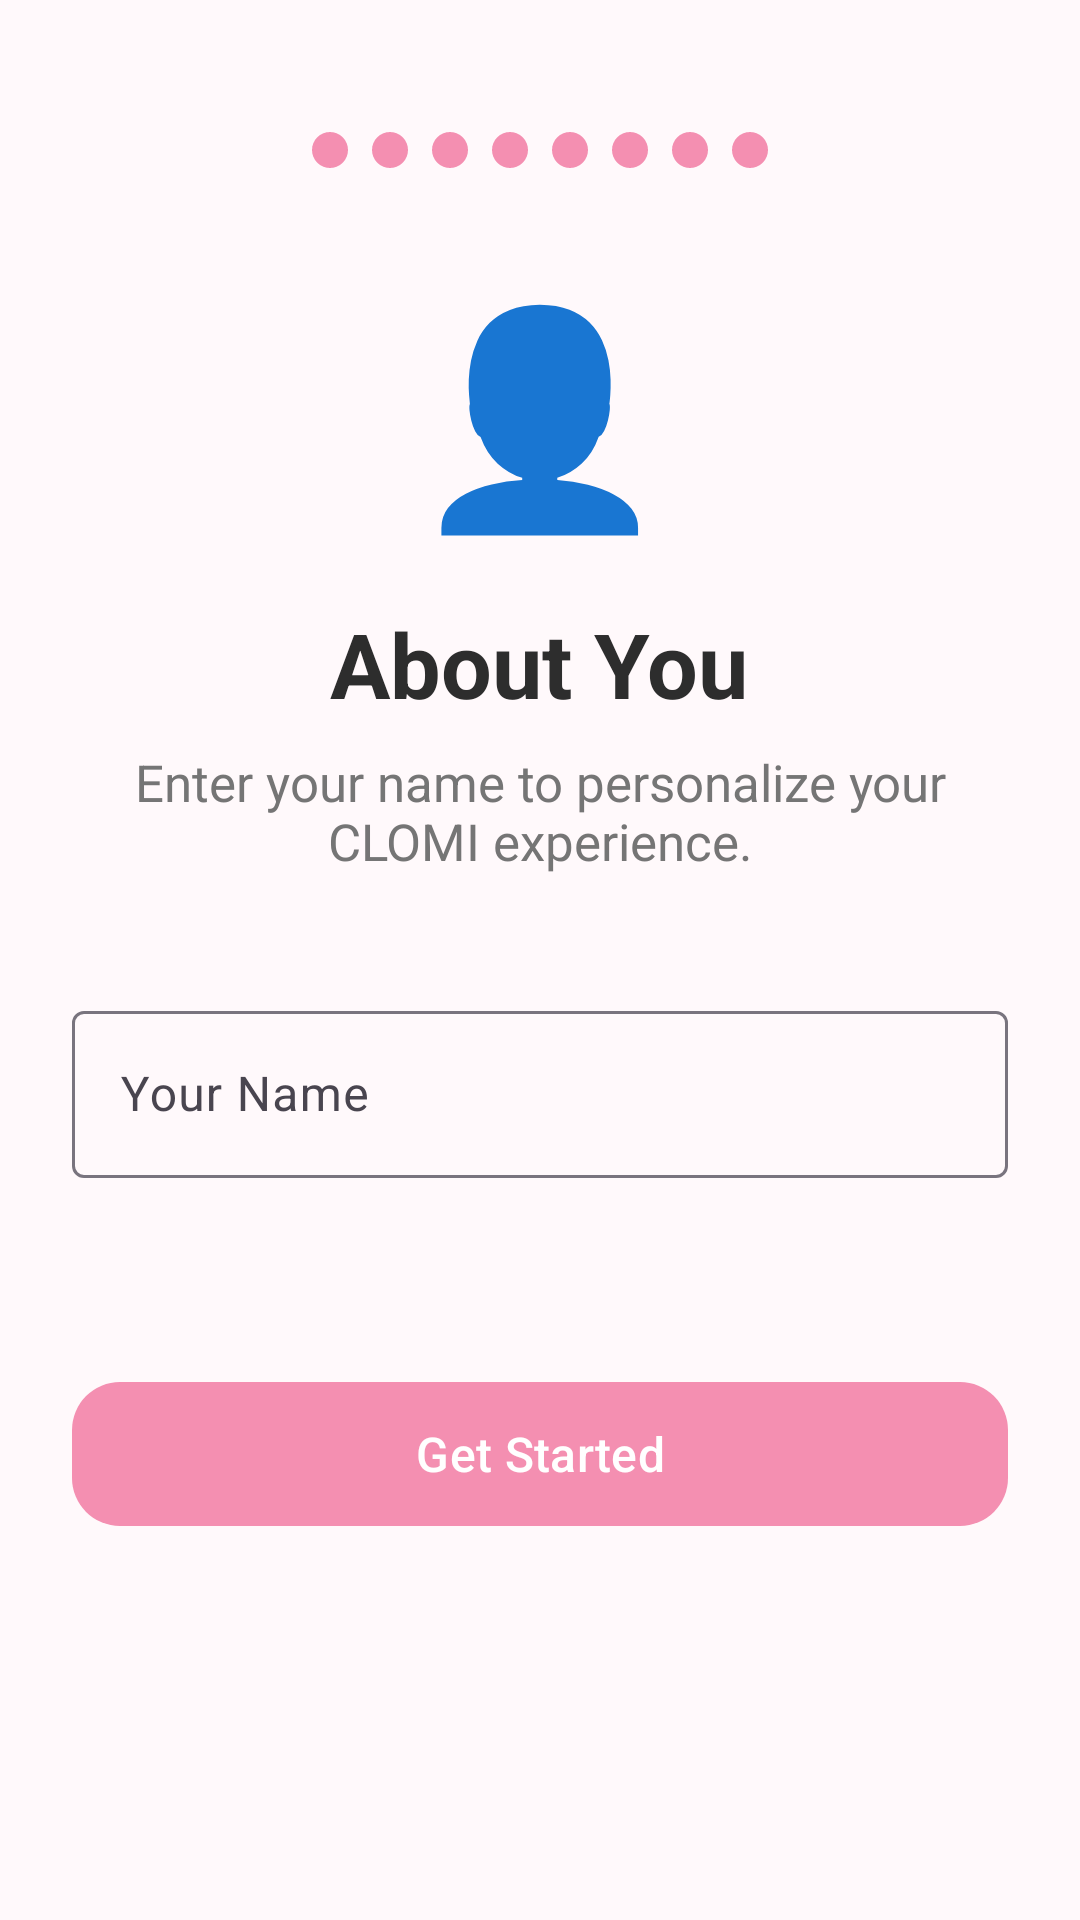

Screen size 1080px x 1920px. Icon name, then its center in pixels as (x=x, y=y):
dot: (x=330, y=150), (x=390, y=150), (x=450, y=150), (x=510, y=150), (x=570, y=150), (x=630, y=150), (x=690, y=150), (x=750, y=150)
